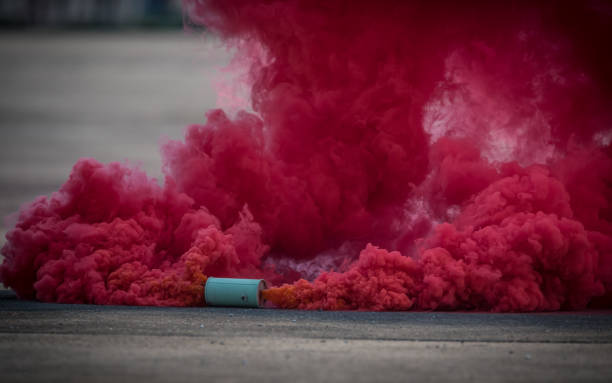e1: (204, 279, 274, 309)
